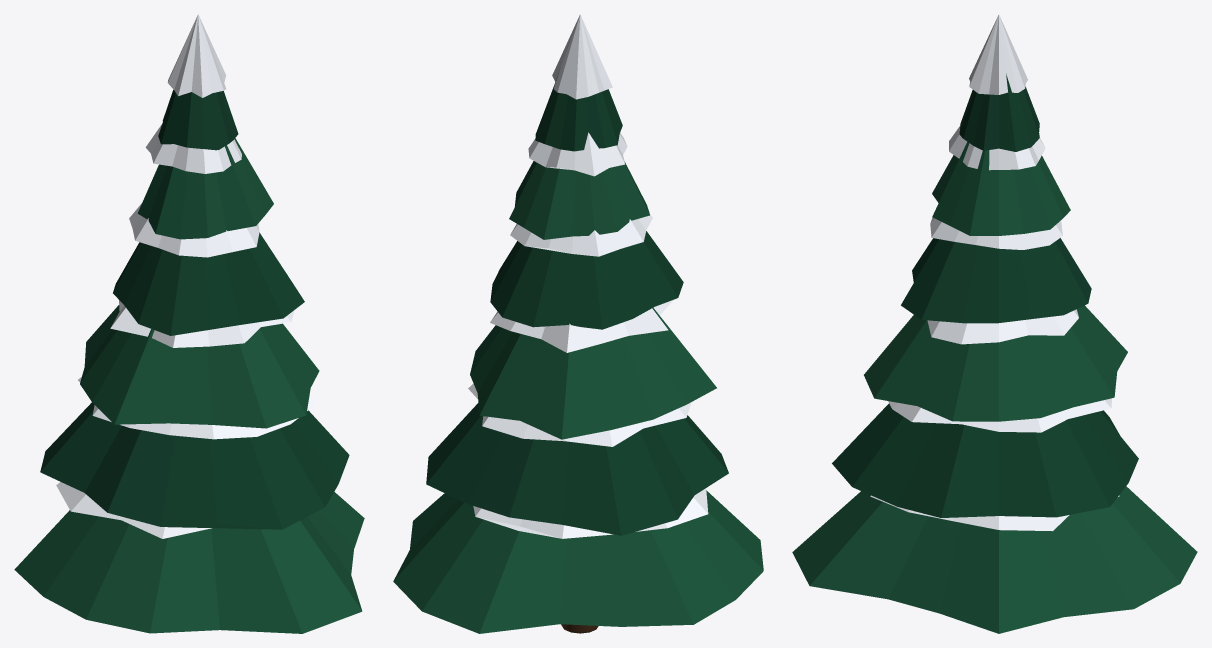
Rendered from pine_tall.glb.
The picture shows the model from 3 angles, left to right: view 1: azimuth 30°, elevation 25°; view 2: azimuth 150°, elevation 25°; view 3: azimuth 270°, elevation 25°; orthographic projection.
Parts seen in each view (by area): view 1: pine_tall; view 2: pine_tall; view 3: pine_tall.
Boxes of the visible parts, x1=… form: pine_tall: x1=14, y1=14, x2=364, y2=633; pine_tall: x1=393, y1=14, x2=763, y2=633; pine_tall: x1=792, y1=14, x2=1197, y2=633.
Bounding box in the file's own units: 3.89 × 7.05 × 4.29.
